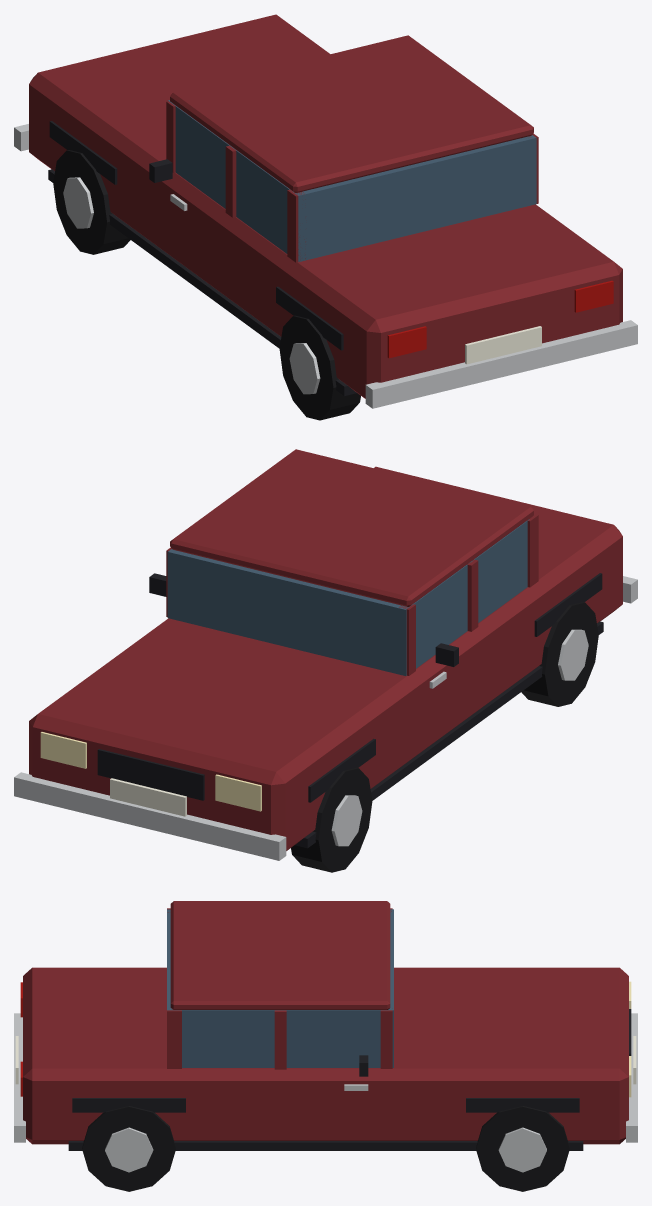
Rendered from car.coupe.glb.
3 renders of one model, top to bottom at view 1: azimuth 30°, elevation 25°; view 2: azimuth 150°, elevation 25°; view 3: azimuth 270°, elevation 25°, orthographic. The views are drawn at different scales.
Parts seen in each view (by area): view 1: body, roof, glass, bumper-back, wheel-11, wheel-1-1, sill, plate-back, hub-1-1, hub-11, arch-1-1, arch-11 (+5 smaller); view 2: body, roof, glass, bumper-front, wheel-1-1, wheel-11, grille, sill, plate-front, headlamp-1, headlamp1, hub-1-1 (+6 smaller); view 3: body, roof, glass, wheel1-1, wheel11, sill, hub1-1, hub11, arch1-1, arch11, bumper-back, bumper-front (+3 smaller).
Boxes of the visible parts, bbox=[...] form: body: bbox=[29, 14, 622, 398]; roof: bbox=[170, 35, 533, 192]; glass: bbox=[167, 100, 536, 261]; bumper-back: bbox=[365, 320, 637, 408]; wheel-11: bbox=[279, 315, 360, 420]; wheel-1-1: bbox=[53, 150, 130, 254]; sill: bbox=[48, 169, 356, 395]; plate-back: bbox=[465, 326, 541, 364]; hub-1-1: bbox=[63, 177, 93, 228]; hub-11: bbox=[289, 343, 320, 394]; arch-1-1: bbox=[49, 121, 117, 184]; arch-11: bbox=[276, 286, 343, 350]; body: bbox=[29, 466, 622, 850]; roof: bbox=[170, 449, 533, 606]; glass: bbox=[167, 519, 529, 675]; bumper-front: bbox=[14, 772, 286, 860]; wheel-1-1: bbox=[291, 767, 372, 872]; wheel-11: bbox=[521, 602, 598, 706]; grille: bbox=[97, 749, 204, 800]; sill: bbox=[295, 621, 603, 848]; plate-front: bbox=[110, 778, 186, 816]; headlamp-1: bbox=[215, 774, 261, 811]; headlamp1: bbox=[40, 732, 86, 768]; hub-1-1: bbox=[331, 795, 362, 846]; body: bbox=[23, 967, 628, 1144]; roof: bbox=[170, 901, 390, 1009]; glass: bbox=[167, 909, 393, 1067]; wheel1-1: bbox=[476, 1106, 569, 1191]; wheel11: bbox=[82, 1106, 175, 1191]; sill: bbox=[68, 1141, 583, 1150]; hub1-1: bbox=[498, 1127, 546, 1172]; hub11: bbox=[105, 1127, 153, 1172]; arch1-1: bbox=[466, 1098, 579, 1112]; arch11: bbox=[72, 1098, 185, 1112]; bumper-back: bbox=[14, 1013, 25, 1142]; bumper-front: bbox=[626, 1013, 637, 1142].
Bounding box in the file's own units: 2.02 × 1.34 × 4.12.
